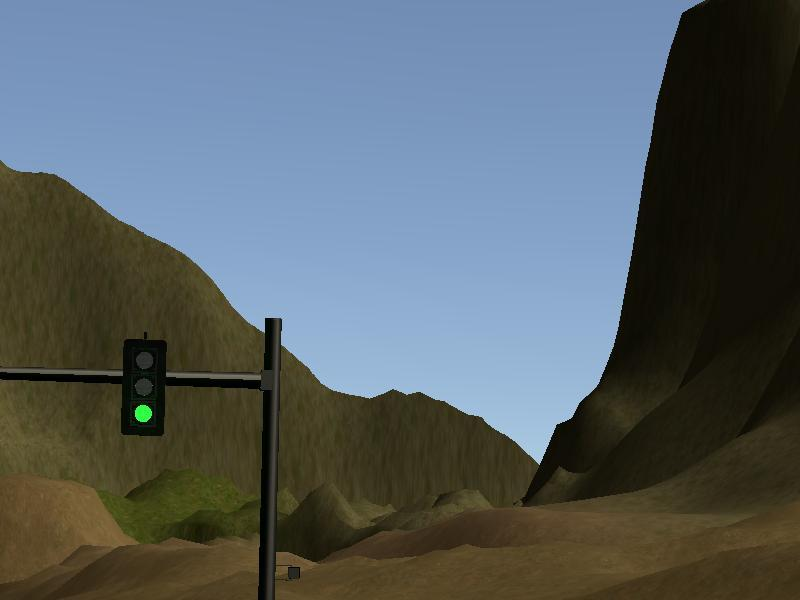Green: (123, 341, 160, 433)
